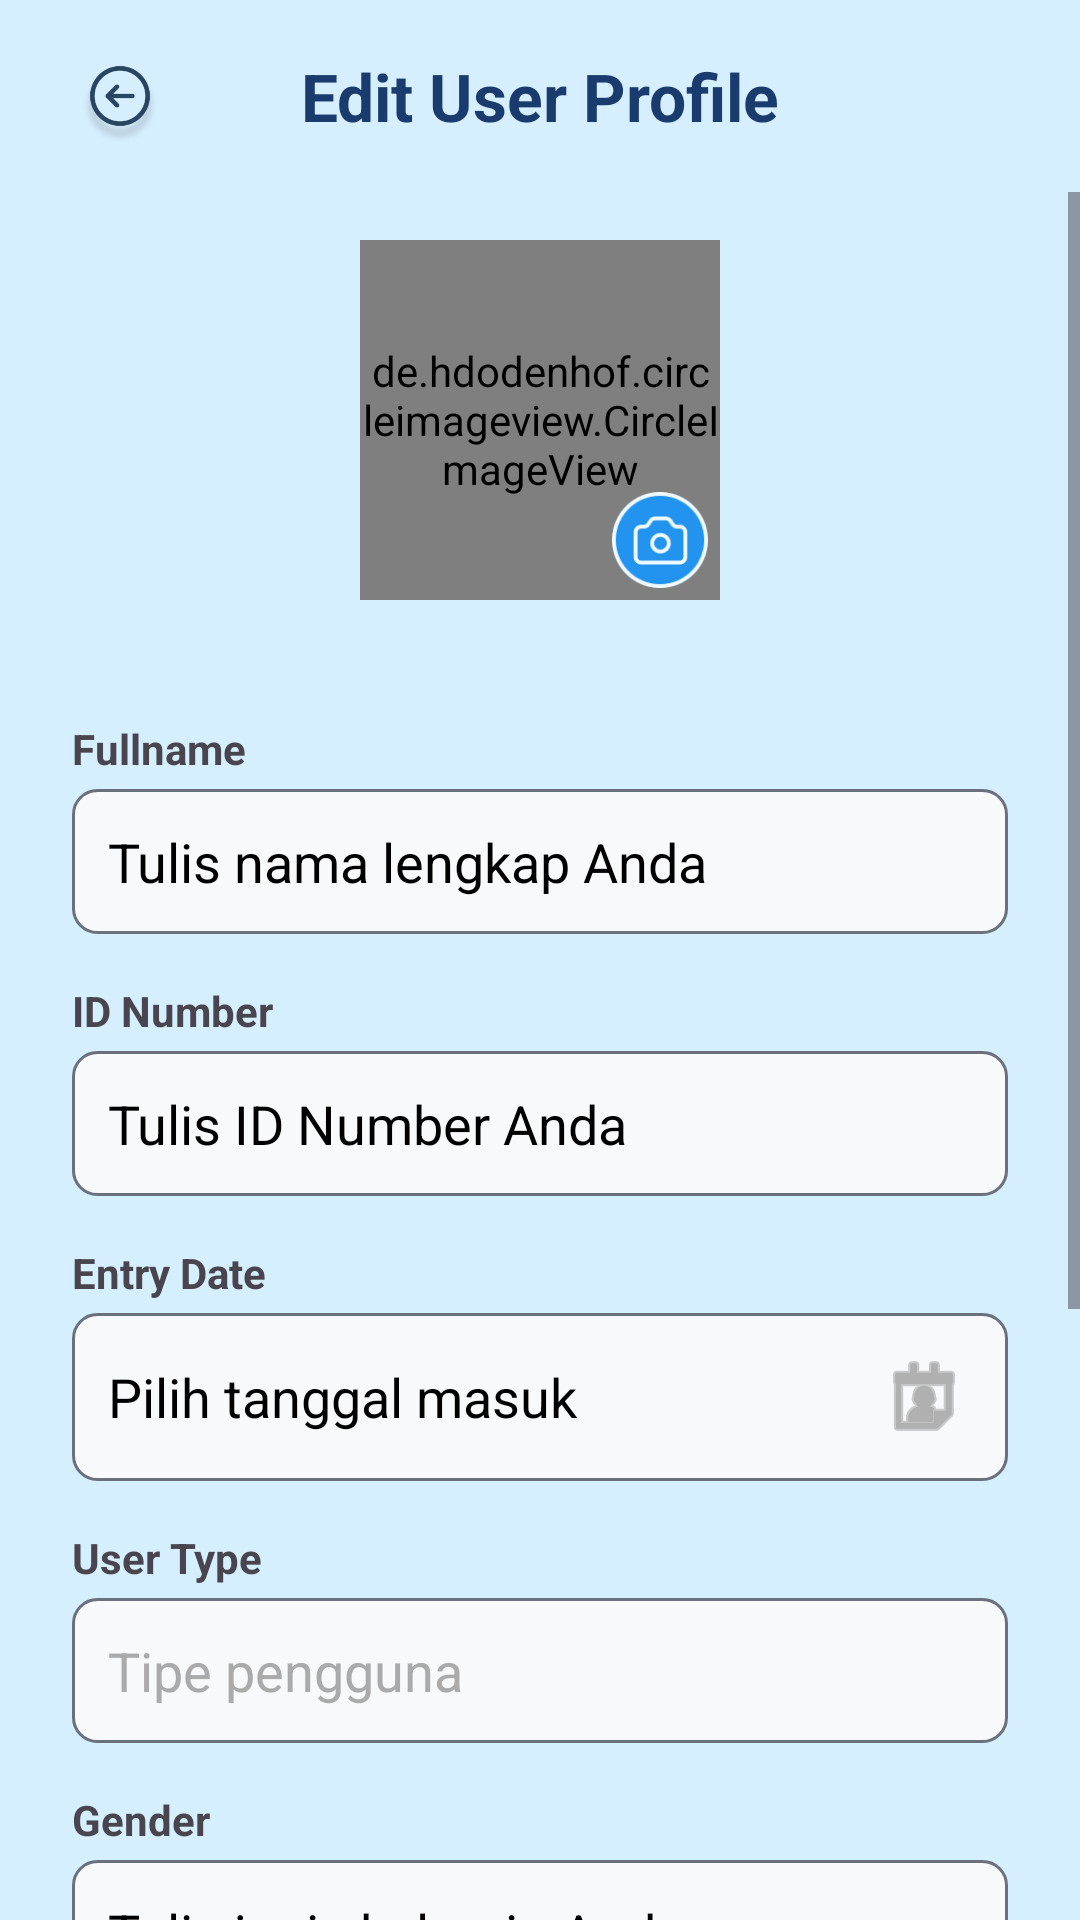

Named icons in this screenshot (1080w x 1920h) and their centers, point (x, y):
Kembali: point (120, 100)
Ubah foto profil: point (660, 540)
